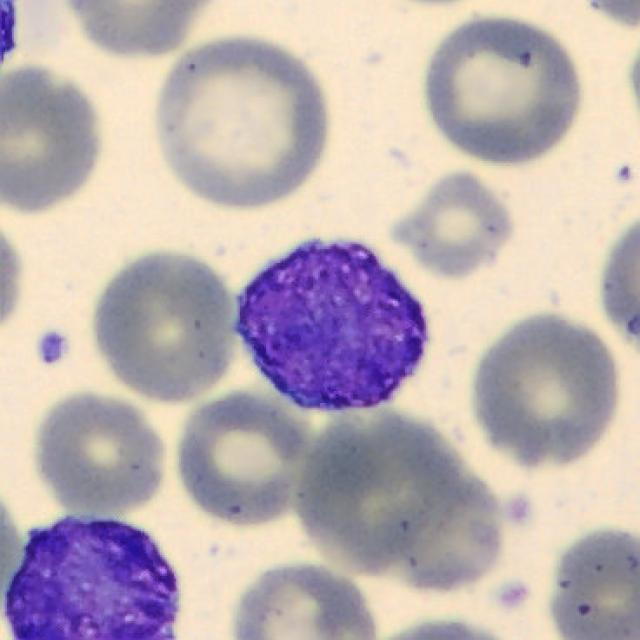Linfocito: (233, 242, 428, 413)
